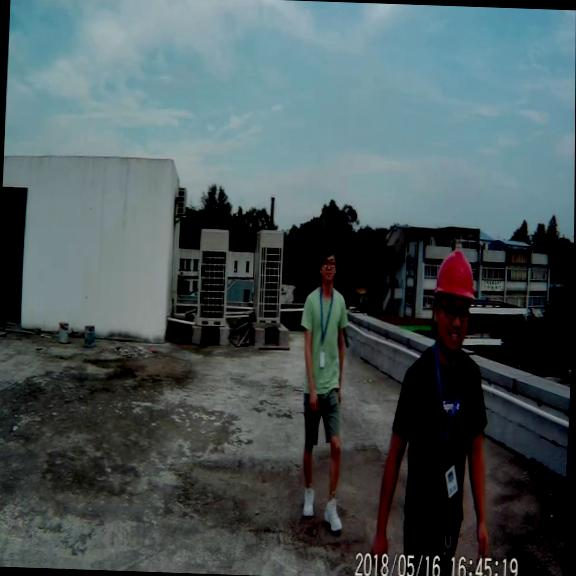no_safety_vest: (389, 338, 498, 534), (301, 275, 349, 398)
